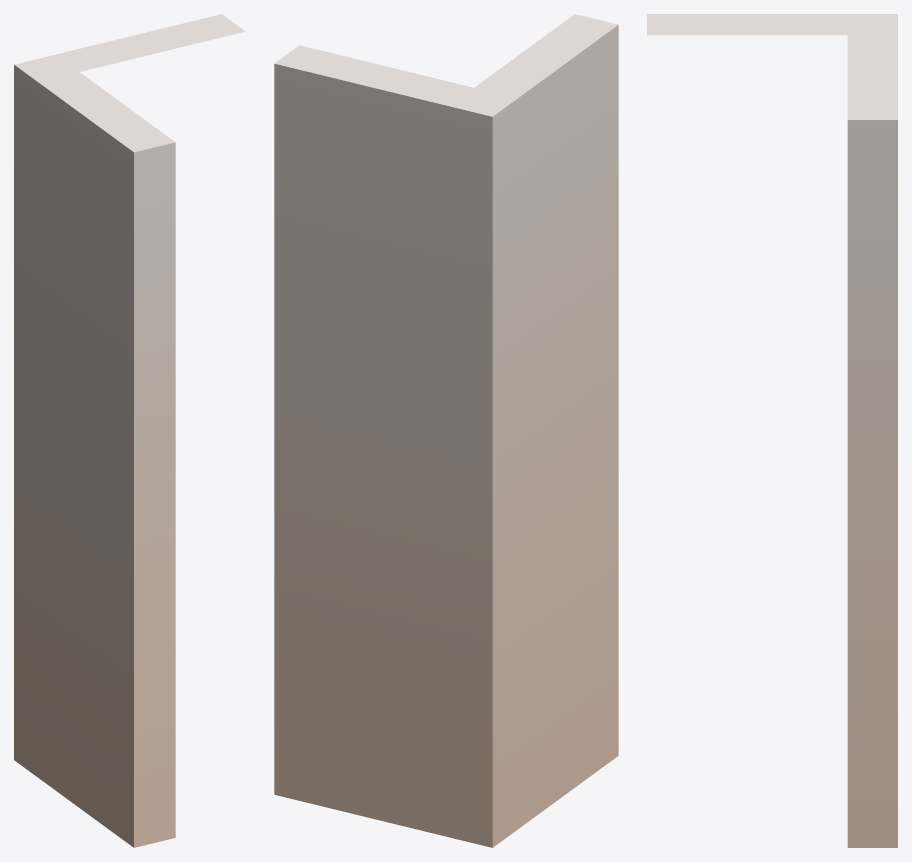
The model's file is wall-modular-panelled-bakery-half-corner-inner-a.glb.
3 views of the same model, side by side, from view 1: azimuth 30°, elevation 25°; view 2: azimuth 150°, elevation 25°; view 3: azimuth 270°, elevation 25° (orthographic). The views are drawn at different scales.
Parts seen in each view (by area): view 1: wall_modular_panelled_bakery_half_corner_inner_A; view 2: wall_modular_panelled_bakery_half_corner_inner_A; view 3: wall_modular_panelled_bakery_half_corner_inner_A.
Boxes of the visible parts, x1,y1,x2,y2 form: wall_modular_panelled_bakery_half_corner_inner_A: [14, 14, 245, 847]; wall_modular_panelled_bakery_half_corner_inner_A: [274, 14, 618, 847]; wall_modular_panelled_bakery_half_corner_inner_A: [647, 14, 897, 847].
Bounding box in the file's own units: 1.25 × 4 × 1.25.
1 material, 1 textured.
